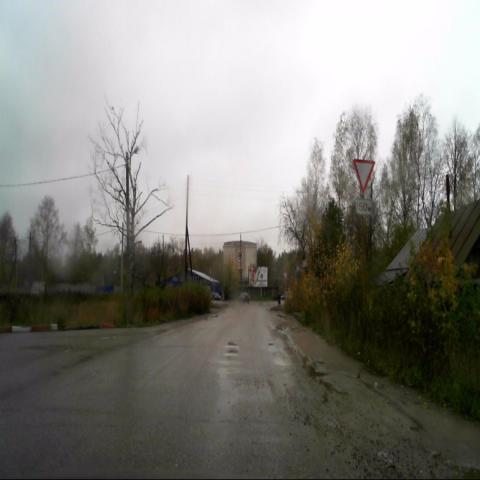8_1_1: (356, 198, 374, 214)
